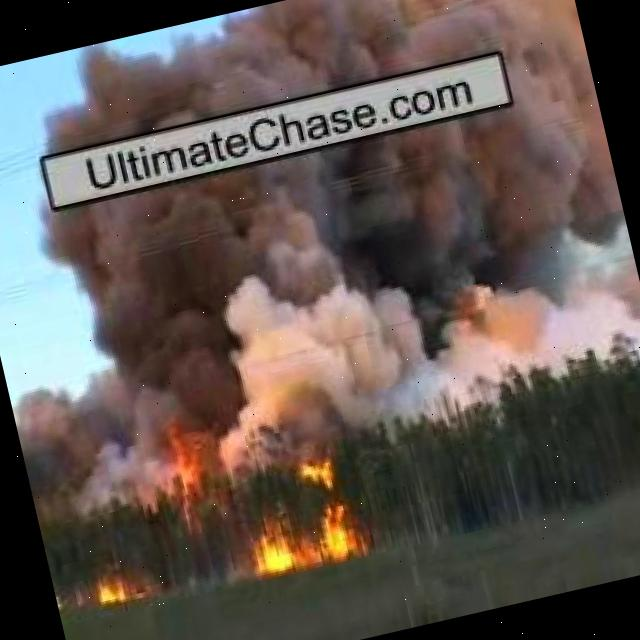fire: (235, 455, 370, 575), (157, 398, 230, 514), (88, 572, 140, 606)
